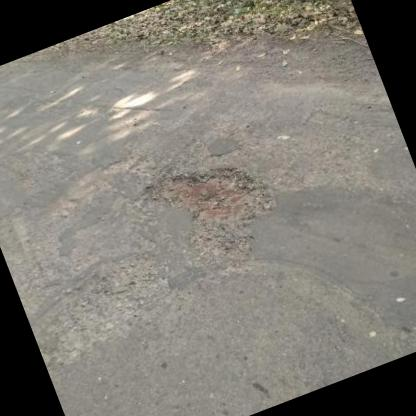pothole: (137, 141, 276, 256)
